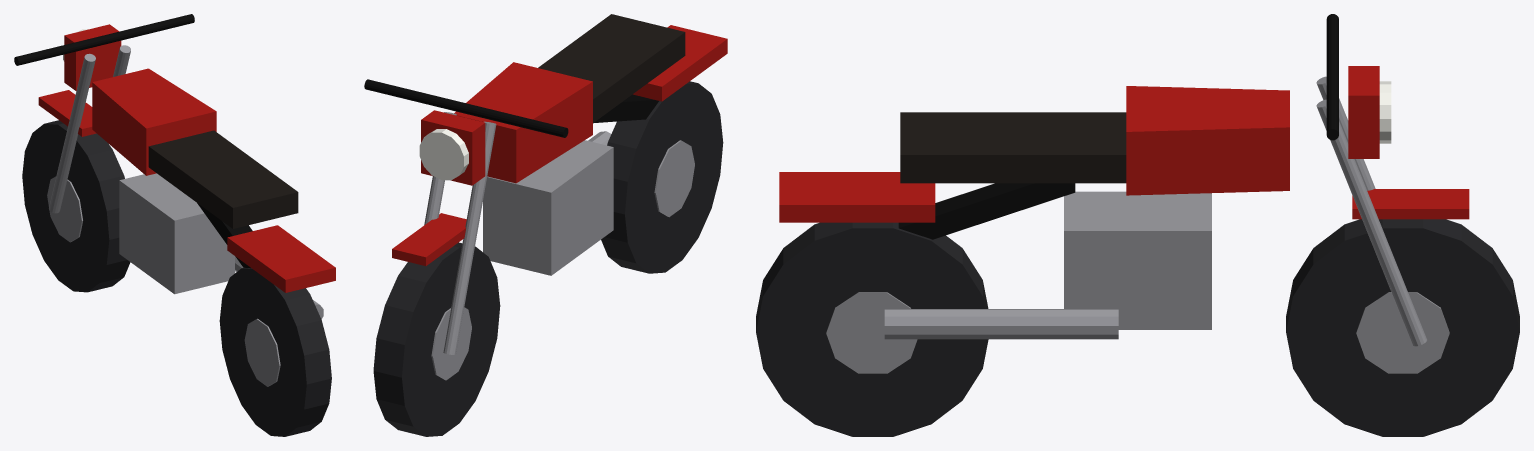
The model's file is Okada.obj.
3 views of the same model, side by side, from view 1: azimuth 30°, elevation 25°; view 2: azimuth 150°, elevation 25°; view 3: azimuth 270°, elevation 25° (orthographic). The views are drawn at different scales.
Visible parts, largest first — view 1: Cylinder; view 2: Cylinder; view 3: Cylinder.
Boxes of the visible parts, x1=… form: Cylinder: x1=14, y1=14, x2=335, y2=436; Cylinder: x1=364, y1=14, x2=727, y2=436; Cylinder: x1=756, y1=14, x2=1519, y2=436.
Bounding box in the file's own units: 0.7 × 1.01 × 1.96.
